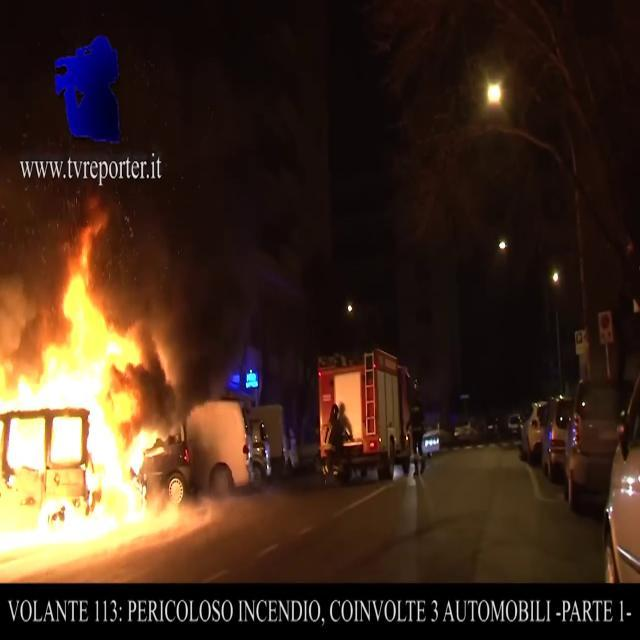Fire: (0, 216, 182, 564)
